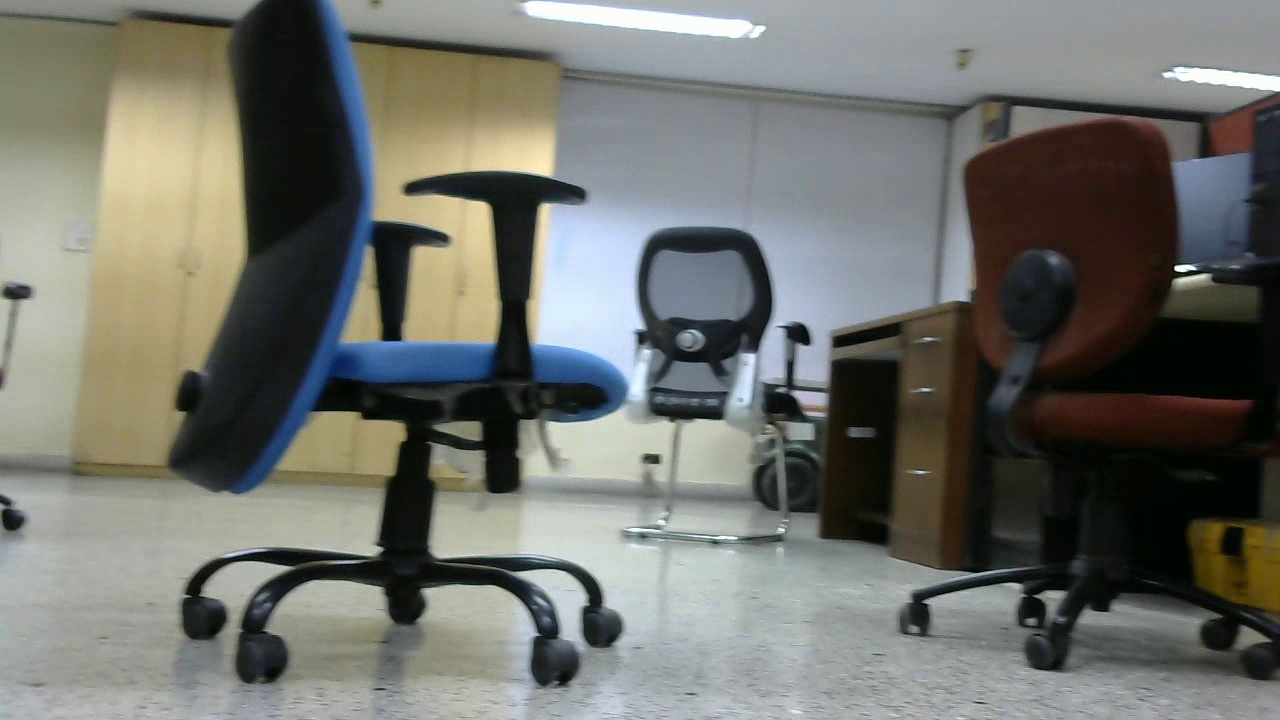chair: (184, 2, 625, 684), (894, 115, 1279, 677), (622, 225, 810, 546)
